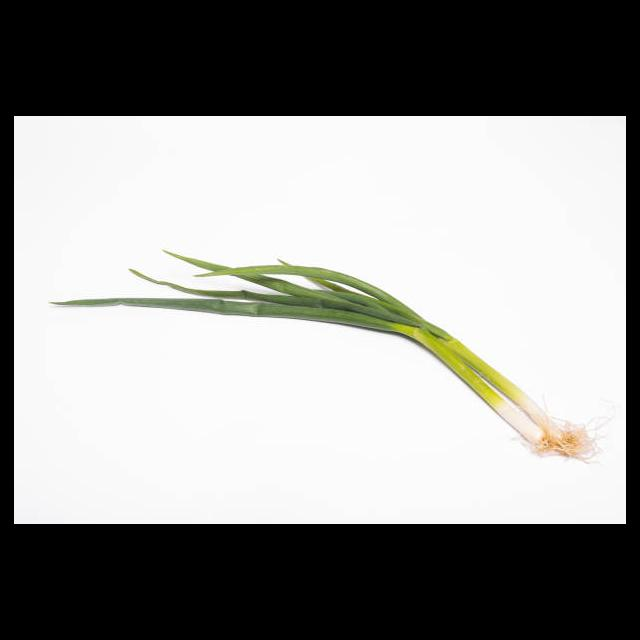green_onion: (45, 212, 598, 462)
